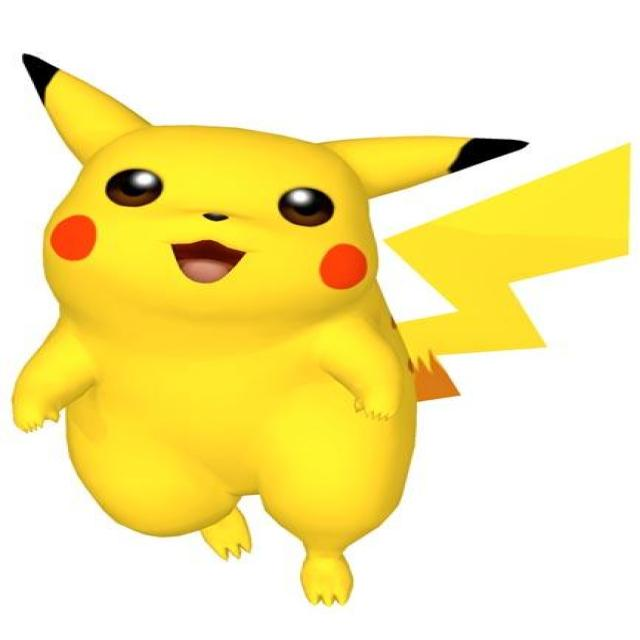pikachu: (9, 55, 632, 607)
